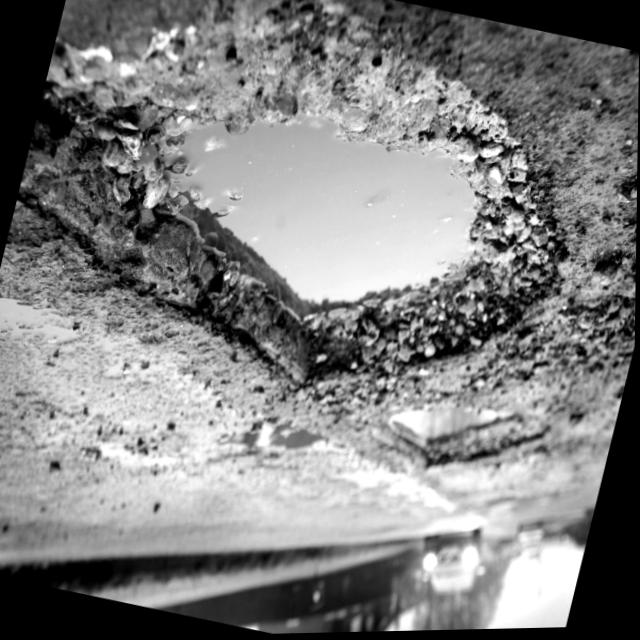pathole: (15, 0, 639, 471), (167, 118, 482, 326), (389, 406, 513, 448)
